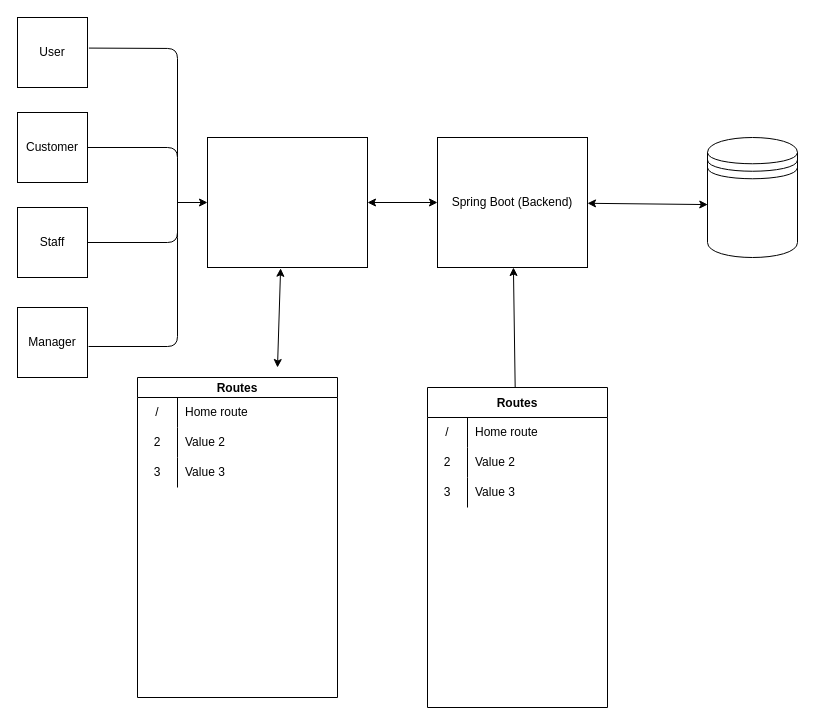
Image size: 815x725. Some labels were removed from this diagram. The centre of each missing label's shape, as x and y in pixels:
Sql database: the point at 752,197
Website ( PWA ) React TS: the point at 287,202
